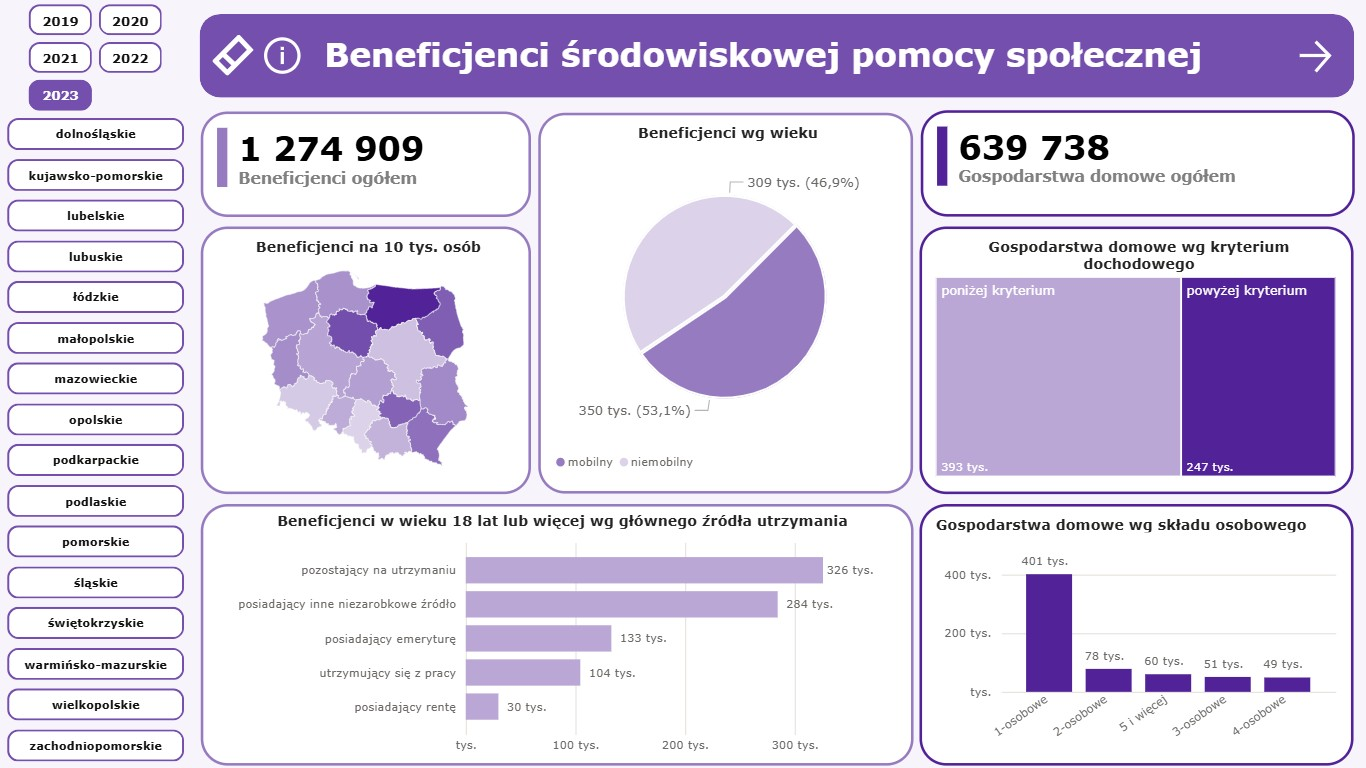

This screenshot's page, from the dashboard's own definition file:
{"tool":"powerbi","page":{"name":"Beneficjnecji środowiskowej pomocy społecznej","canvas":[1280,720],"ordinal":0},"visuals":[{"type":"group","id":"g1","title":"Grupa 1","box":[183.6,13.6,1077.3,78.2],"z":0},{"type":"advancedSlicerVisual","fields":{"Values":["Rok.Rok"]},"box":[0,0,175.8,111.7],"z":1000},{"type":"shape","box":[183.6,13.6,1077,78],"z":1000,"group":"g1"},{"type":"textbox","title":"Beneficjenci środowiskowej pomocy społecznej","box":[225.1,32.8,967.3,39.1],"z":2000,"group":"g1"},{"type":"advancedSlicerVisual","fields":{"Values":["Wojewodztwa.Nazwa"]},"box":[0,106.6,175.5,613.4],"z":2000},{"type":"shapeMap","title":"Beneficjenci na 10 tys. osób","fields":{"Value":["Sum(BeneficjenciNa10Tys.Wartosc)"],"Category":["Wojewodztwa.Nazwa"]},"box":[185.4,212.2,308.1,249.9],"z":3000},{"type":"multiRowCard","fields":{"Values":["Sum(BeneficjenciKryteriumWiek.Wartosc)"]},"box":[185.4,104.8,308.1,98.5],"z":4000},{"type":"pieChart","title":"Beneficjenci wg wieku","fields":{"Y":["Sum(BeneficjenciKryteriumWiek.Wartosc)"],"Category":["Wiek.Rodzaj Hierarchia.Wiek","Wiek.Rodzaj Hierarchia.Mobilność"]},"box":[500.6,106.6,349.3,355.5],"z":5000},{"type":"multiRowCard","fields":{"Values":["Sum(GospodarstwaKryterium.Wartosc)"]},"box":[856.4,103.6,404.5,99.1],"z":6000},{"type":"clusteredBarChart","title":"Beneficjenci w wieku 18 lat lub więcej wg głównego źródła utrzymania","fields":{"Y":["Sum(BeneficjenciKryteriumŹródło.Wartosc)"],"Category":["GlowneZrodloUtrzymania.Rodzaj_zrodla"]},"box":[185,471,665,244],"z":6000,"group":"g2"},{"type":"treemap","title":"Gospodarstwa domowe wg kryterium dochodowego","fields":{"Values":["Sum(GospodarstwaKryterium.Wartosc)"],"Group":["KryteriumDochodowe.Rodzaj_kryterium"]},"box":[856.1,212.2,404.8,249.9],"z":7000},{"type":"clusteredColumnChart","title":"Gospodarstwa domowe wg składu osobowego","fields":{"Category":["SkladOsobowy.rodzaj_skladu"],"Y":["Sum(GospodarstwaKryteriumOsoby.Wartosc)"]},"box":[856,471,405,244],"z":8000},{"type":"group","id":"g2","title":"Grupa 3","box":[185,471,665,244],"z":9000},{"type":"actionButton","box":[238.5,30.8,46.2,44.9],"z":10000},{"type":"actionButton","box":[192.3,28.2,46.2,48.7],"z":11000},{"type":"actionButton","box":[1203.8,33.3,46.2,39.7],"z":12000}]}

Visuals, with their boxes in screenshot pixels (x1, y1, x2, y2), scaled from the page's 1280x720 canvas onto the 1366x768 screenshot:
"Grupa 1" group: detection(196, 15, 1346, 98)
advancedSlicerVisual - Rok.Rok: detection(0, 0, 188, 119)
shape: detection(196, 15, 1345, 98)
"Beneficjenci środowiskowej pomocy społecznej" textbox: detection(240, 35, 1273, 77)
advancedSlicerVisual - Wojewodztwa.Nazwa: detection(0, 114, 187, 767)
"Beneficjenci na 10 tys. osób" shapeMap: detection(198, 226, 527, 493)
multiRowCard - Sum(BeneficjenciKryteriumWiek.Wartosc): detection(198, 112, 527, 217)
"Beneficjenci wg wieku" pieChart: detection(534, 114, 907, 493)
multiRowCard - Sum(GospodarstwaKryterium.Wartosc): detection(914, 111, 1346, 216)
"Beneficjenci w wieku 18 lat lub więcej wg głównego źródła utrzymania" clusteredBarChart: detection(197, 502, 907, 763)
"Gospodarstwa domowe wg kryterium dochodowego" treemap: detection(914, 226, 1346, 493)
"Gospodarstwa domowe wg składu osobowego" clusteredColumnChart: detection(914, 502, 1346, 763)
"Grupa 3" group: detection(197, 502, 907, 763)
actionButton: detection(255, 33, 304, 81)
actionButton: detection(205, 30, 255, 82)
actionButton: detection(1285, 36, 1334, 78)
